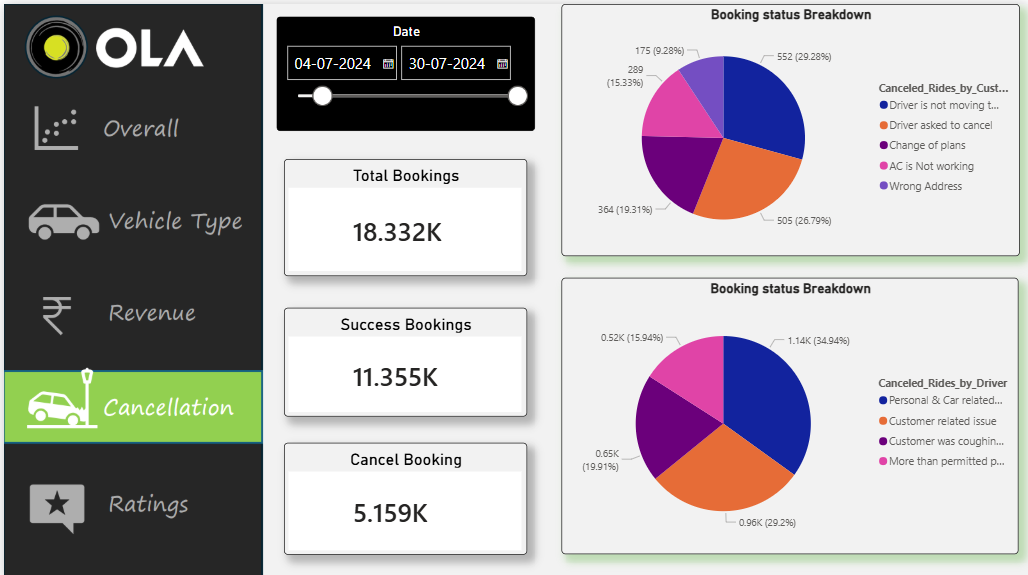

This screenshot's page, from the dashboard's own definition file:
{"tool":"powerbi","page":{"name":"Cancellation","canvas":[1280,720],"ordinal":3},"visuals":[{"type":"actionButton","box":[0,120.3,323.4,73.4],"z":0},{"type":"actionButton","box":[0,217.2,323.4,98.4],"z":1000},{"type":"actionButton","box":[0,342.2,323.4,104.7],"z":2000},{"type":"actionButton","box":[0,590.6,323.4,96.9],"z":3000},{"type":"pieChart","title":"Booking status Breakdown","fields":{"Category":["Sheet1.Canceled_Rides_by_Customer"],"Y":["CountNonNull(Sheet1.Canceled_Rides_by_Customer)"]},"box":[696.1,0,572.7,315.6],"z":3001},{"type":"pieChart","title":"Booking status Breakdown","fields":{"Category":["Sheet1.Canceled_Rides_by_Driver"],"Y":["CountNonNull(Sheet1.Canceled_Rides_by_Driver)"]},"box":[696.1,342.9,571.4,345.5],"z":3002},{"type":"slicer","title":"Date","fields":{"Values":["Sheet1.Date"]},"box":[340.3,15.6,323.4,142.9],"z":3003},{"type":"cardVisual","title":"Total Bookings","fields":{"Data":["Count(Sheet1.Booking_ID)"]},"box":[350.6,193.5,303.9,146.8],"z":3004},{"type":"cardVisual","title":"Success Bookings","fields":{"Data":["Count(Sheet1.Booking_ID)"]},"box":[350.6,379.2,303.9,136.4],"z":3005},{"type":"cardVisual","title":"Cancel Booking","fields":{"Data":["Count(Sheet1.Booking_ID)"]},"box":[350.6,548.1,303.9,140.3],"z":3006}]}

Visuals, with their boxes in screenshot pixels (x1, y1, x2, y2), scaled from the page's 1280x720 canvas onto the 1028x575 screenshot:
actionButton: rect(0, 96, 260, 155)
actionButton: rect(0, 173, 260, 252)
actionButton: rect(0, 273, 260, 357)
actionButton: rect(0, 472, 260, 549)
"Booking status Breakdown" pieChart: rect(559, 0, 1019, 252)
"Booking status Breakdown" pieChart: rect(559, 274, 1018, 550)
"Date" slicer: rect(273, 12, 533, 127)
"Total Bookings" cardVisual: rect(282, 155, 526, 272)
"Success Bookings" cardVisual: rect(282, 303, 526, 412)
"Cancel Booking" cardVisual: rect(282, 438, 526, 550)
